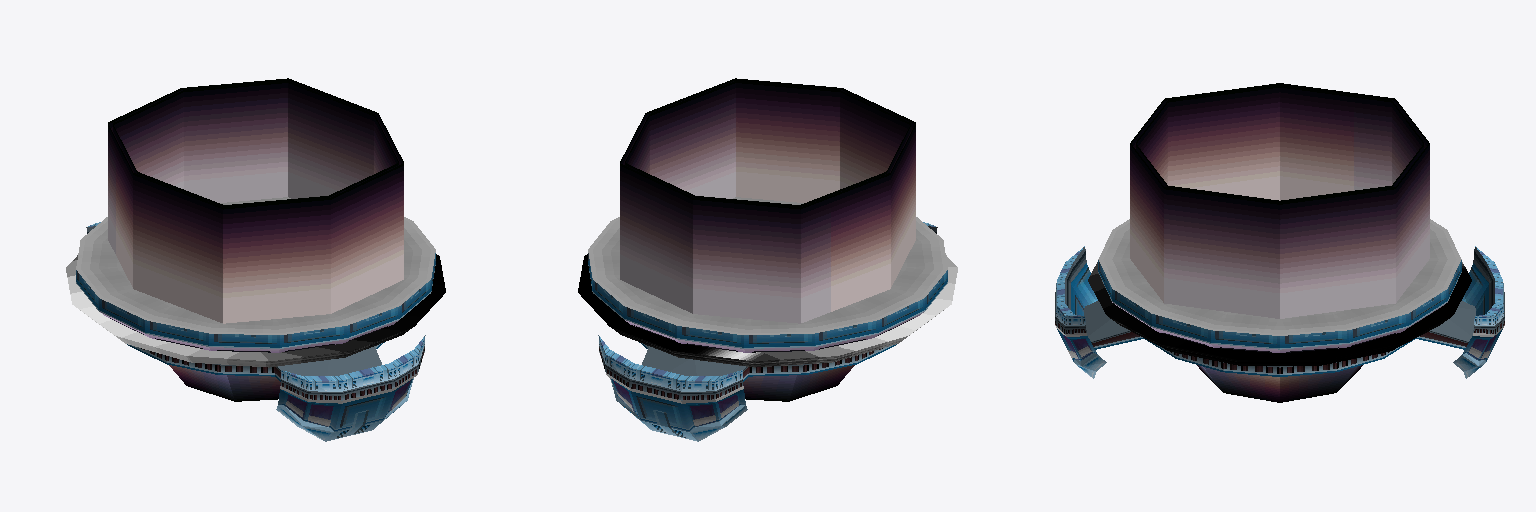
The picture shows the model from 3 angles: view 1: azimuth 30°, elevation 25°; view 2: azimuth 150°, elevation 25°; view 3: azimuth 270°, elevation 25°; orthographic projection.
Visible parts, largest first — view 1: polygon3, polygon6, polygon0, polygon4, polygon2, polygon9, polygon1; view 2: polygon3, polygon6, polygon0, polygon4, polygon2, polygon9, polygon1; view 3: polygon3, polygon6, polygon0, polygon4, polygon2, polygon9, polygon1.
Part boxes in pixels (x1,y1,x2,y2): polygon3: (108,78,403,323); polygon6: (86,222,425,441); polygon0: (76,197,435,334); polygon4: (66,254,445,367); polygon2: (76,253,435,348); polygon9: (169,365,280,401); polygon1: (100,312,398,352); polygon3: (620,78,915,323); polygon6: (598,222,937,441); polygon0: (588,197,947,334); polygon4: (578,254,957,367); polygon2: (588,253,947,348); polygon9: (743,365,854,401); polygon1: (625,312,923,352); polygon3: (1130,83,1429,318); polygon6: (1055,246,1504,378); polygon0: (1098,219,1461,335); polygon4: (1088,262,1471,365); polygon2: (1098,260,1461,349); polygon9: (1197,365,1362,402); polygon1: (1112,302,1447,352).
Bounding box in the file's own units: 14.84 × 9.88 × 17.82.
7 materials, 5 textured.